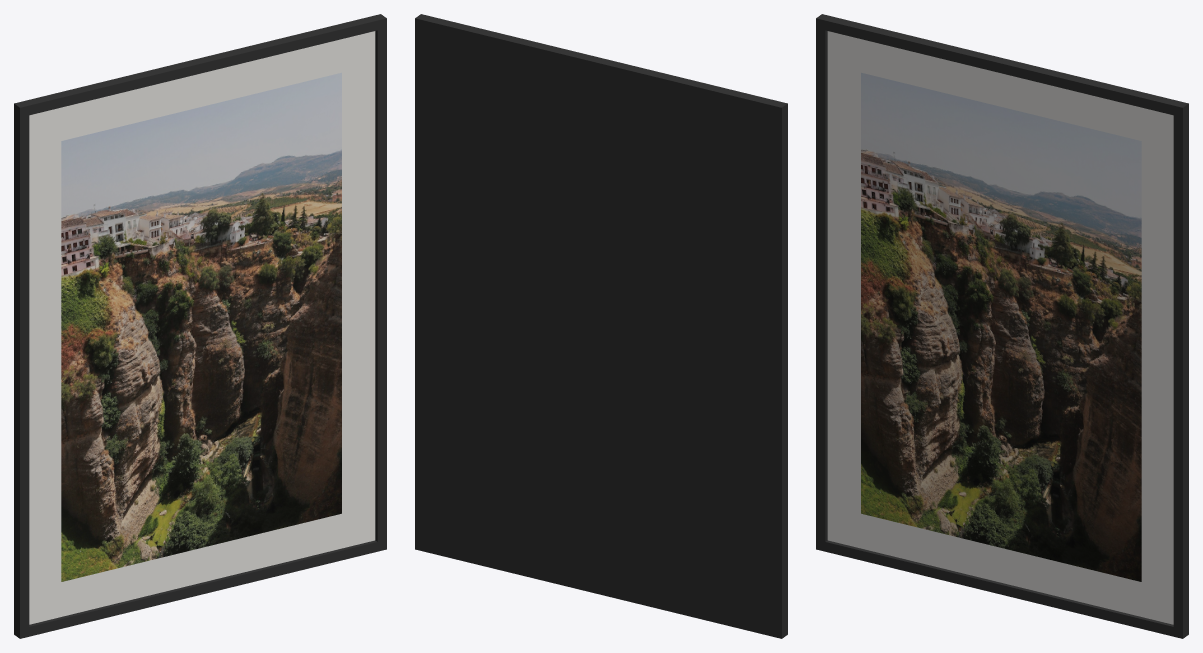
File: ronda-90.gltf
The picture shows the model from 3 angles, left to right: view 1: azimuth 30°, elevation 25°; view 2: azimuth 150°, elevation 25°; view 3: azimuth 330°, elevation 25°; orthographic projection.
Visible parts, largest first — view 1: tavla; view 2: tavla; view 3: tavla.
Part boxes in pixels (x1=…): tavla: x1=14, y1=14, x2=386, y2=638; tavla: x1=415, y1=14, x2=787, y2=638; tavla: x1=816, y1=14, x2=1188, y2=638.
Bounding box in the file's own units: 0.7834 × 1.08 × 0.022.
3 materials, 1 textured.
